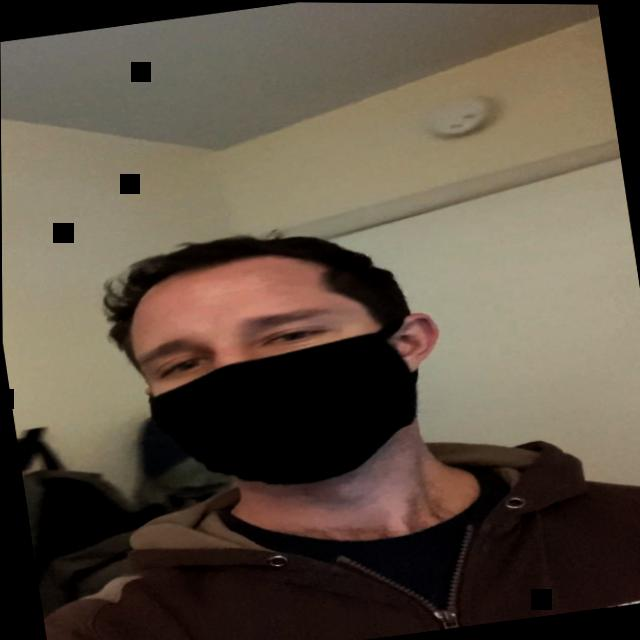Mask: (107, 232, 450, 524)
